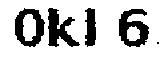0: (13, 6, 45, 52)
6: (118, 6, 151, 51)
k: (46, 4, 80, 53)
l: (82, 3, 104, 49)
